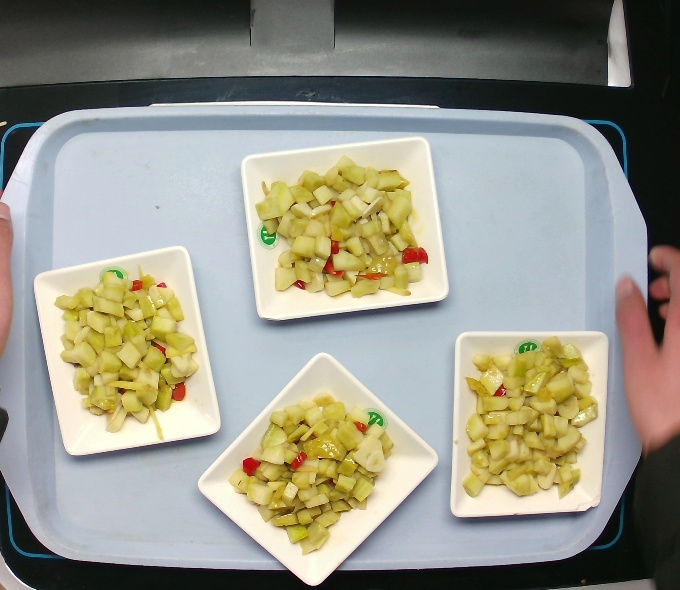wcq-YanHuaCaiGeng: (226, 395, 398, 557), (250, 154, 433, 306), (51, 269, 203, 445), (458, 341, 601, 504)
